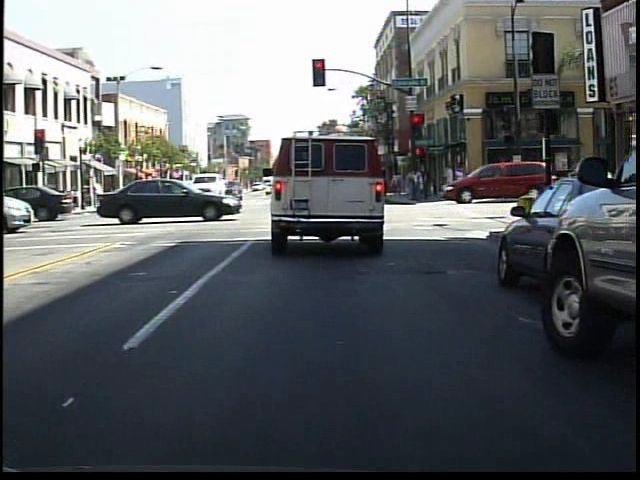person: (484, 161, 504, 200)
